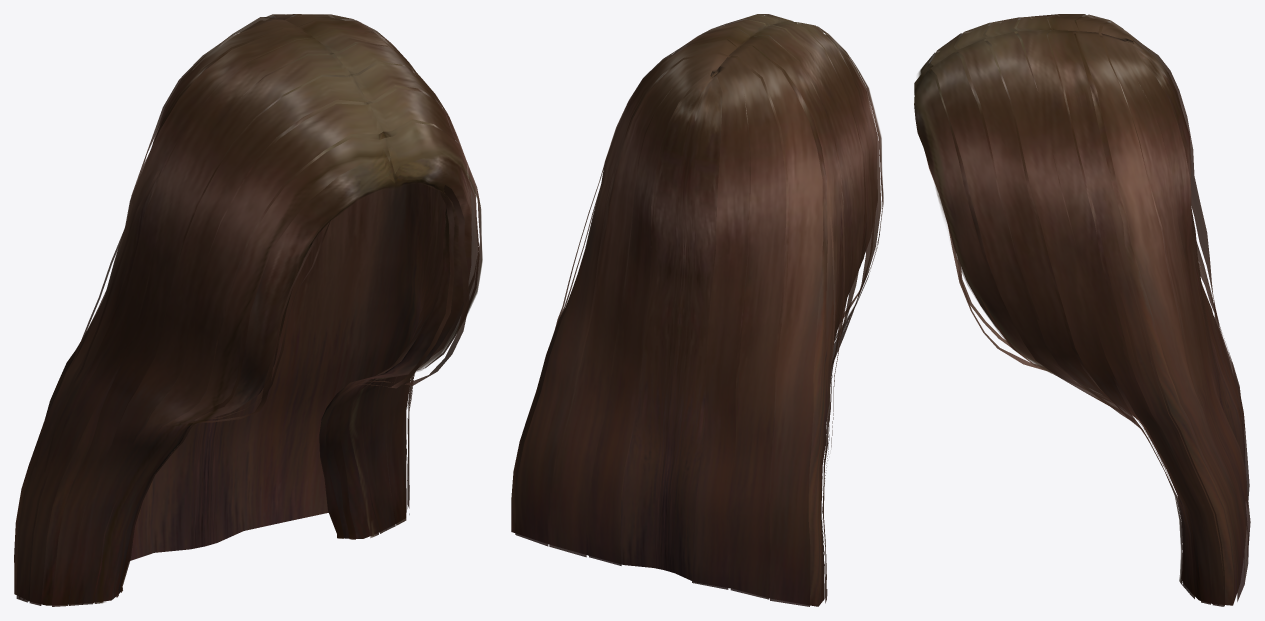
File: medium.glb
3 views of the same model, side by side, from view 1: azimuth 30°, elevation 25°; view 2: azimuth 150°, elevation 25°; view 3: azimuth 270°, elevation 25° (orthographic). The views are drawn at different scales.
Parts seen in each view (by area): view 1: hair_medium; view 2: hair_medium; view 3: hair_medium.
Boxes of the visible parts, x1,y1,x2,y2 form: hair_medium: (14, 14, 482, 606); hair_medium: (511, 14, 883, 606); hair_medium: (914, 14, 1250, 606).
Size of the model in its own units: 0.273 by 0.3959 by 0.2417.
1 material, 1 textured.
